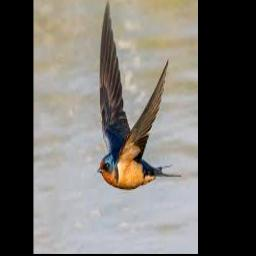Swallow: (96, 0, 181, 189)
